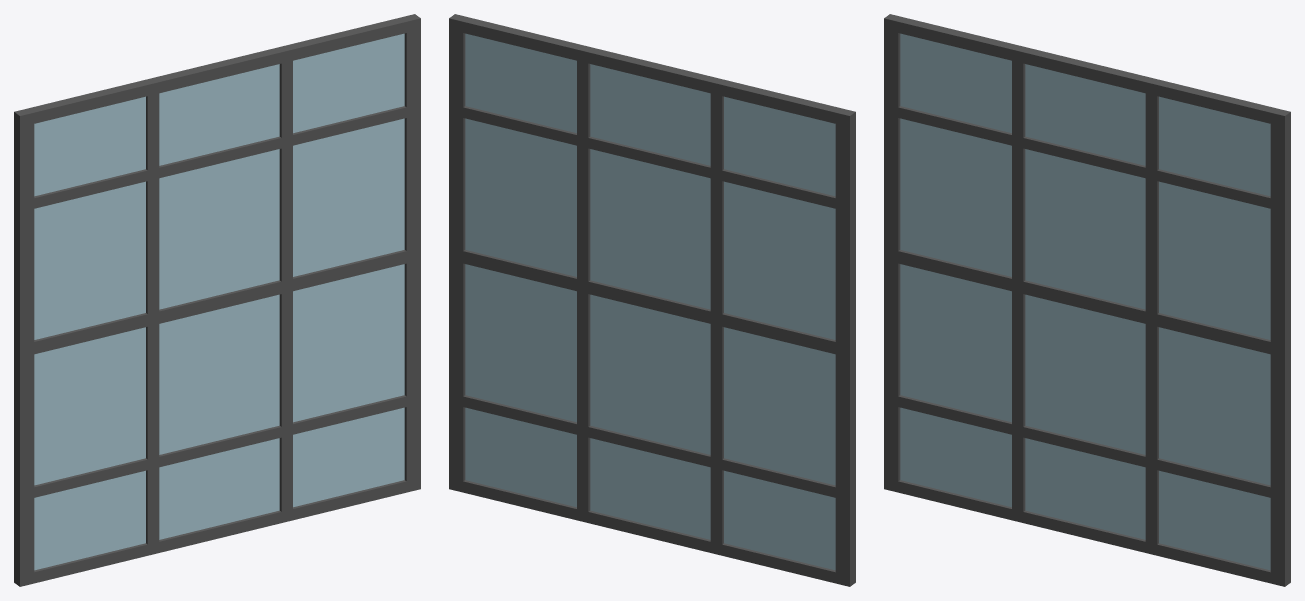
Rendered from Door_6.fbx.
The picture shows the model from 3 angles, left to right: view 1: azimuth 30°, elevation 25°; view 2: azimuth 150°, elevation 25°; view 3: azimuth 330°, elevation 25°; orthographic projection.
Visible parts, largest first — view 1: Door_6; view 2: Door_6; view 3: Door_6.
Boxes of the visible parts, x1,y1,x2,y2 form: Door_6: (14, 14, 420, 586); Door_6: (449, 14, 855, 586); Door_6: (884, 14, 1290, 586).
Size of the model in its own units: 370 by 9.49 by 415.
